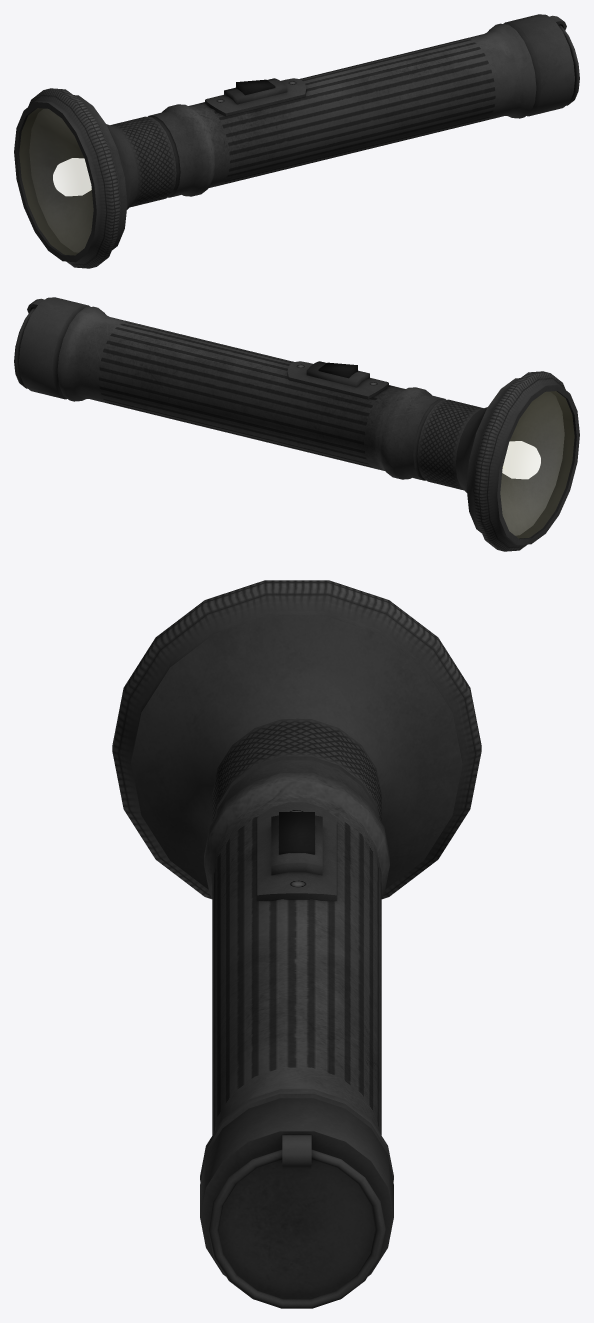
Rendered from vintage_flashlight.glb.
3 views of the same model, one above another, from view 1: azimuth 30°, elevation 25°; view 2: azimuth 150°, elevation 25°; view 3: azimuth 270°, elevation 25° (orthographic). The views are drawn at different scales.
Parts seen in each view (by area): view 1: light, lense; view 2: light, lense; view 3: light.
Boxes of the visible parts, bbox=[...] form: light: bbox=[14, 14, 579, 268]; lense: bbox=[19, 108, 93, 254]; light: bbox=[14, 297, 579, 551]; lense: bbox=[500, 391, 574, 537]; light: bbox=[112, 580, 481, 1308].
Bounding box in the file's own units: 17.76 × 5.44 × 5.52.
Materials: 2 (2 with a texture image).
